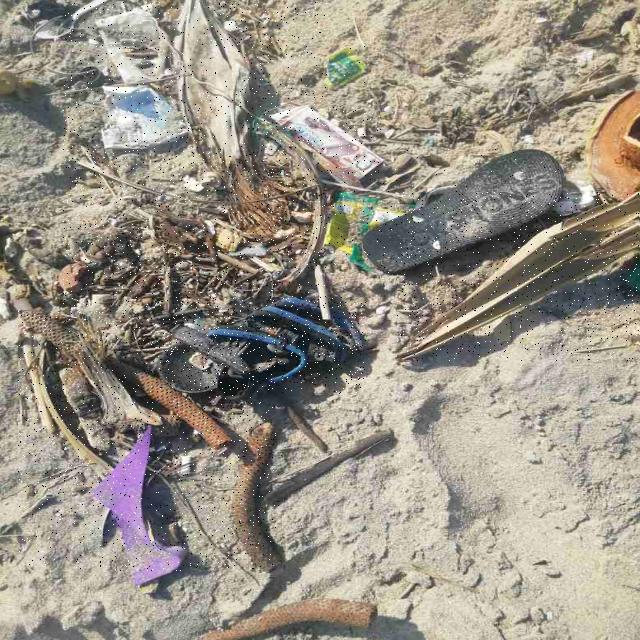biowaste: (63, 3, 327, 323), (19, 311, 279, 571), (397, 194, 639, 361)
other: (362, 149, 565, 273), (156, 297, 366, 394)
paper: (269, 107, 383, 184)
wrapper: (324, 192, 403, 268), (328, 47, 367, 87)
